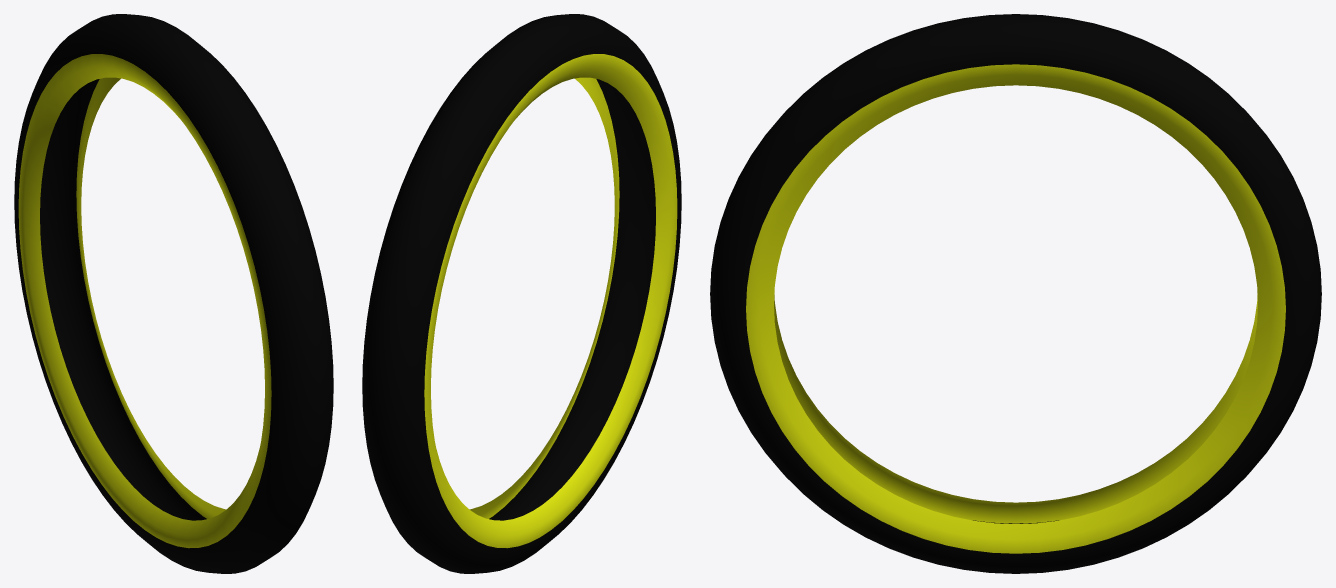
Rendered from NewTire.fbx.
3 renders of one model, left to right at view 1: azimuth 30°, elevation 25°; view 2: azimuth 150°, elevation 25°; view 3: azimuth 270°, elevation 25°, orthographic. The views are drawn at different scales.
Visible parts, largest first — view 1: BMX_Tire_Ref; view 2: BMX_Tire_Ref; view 3: BMX_Tire_Ref.
Boxes of the visible parts, x1,y1,x2,y2 form: BMX_Tire_Ref: [14, 14, 333, 573]; BMX_Tire_Ref: [362, 14, 681, 573]; BMX_Tire_Ref: [710, 14, 1321, 573].
Bounding box in the file's own units: 0.0615 × 0.5262 × 0.5262.
